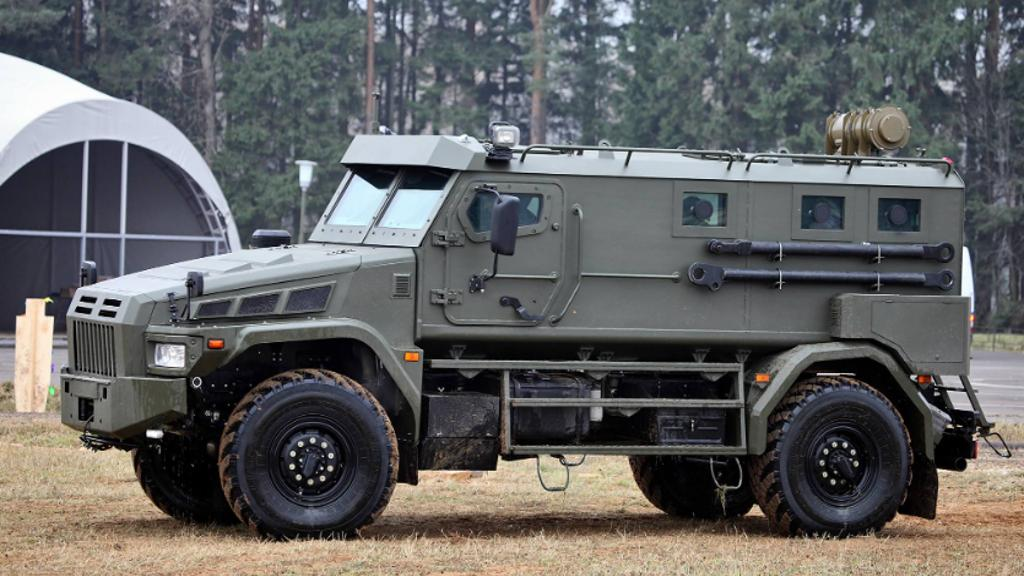CAR: (52, 102, 986, 537)
